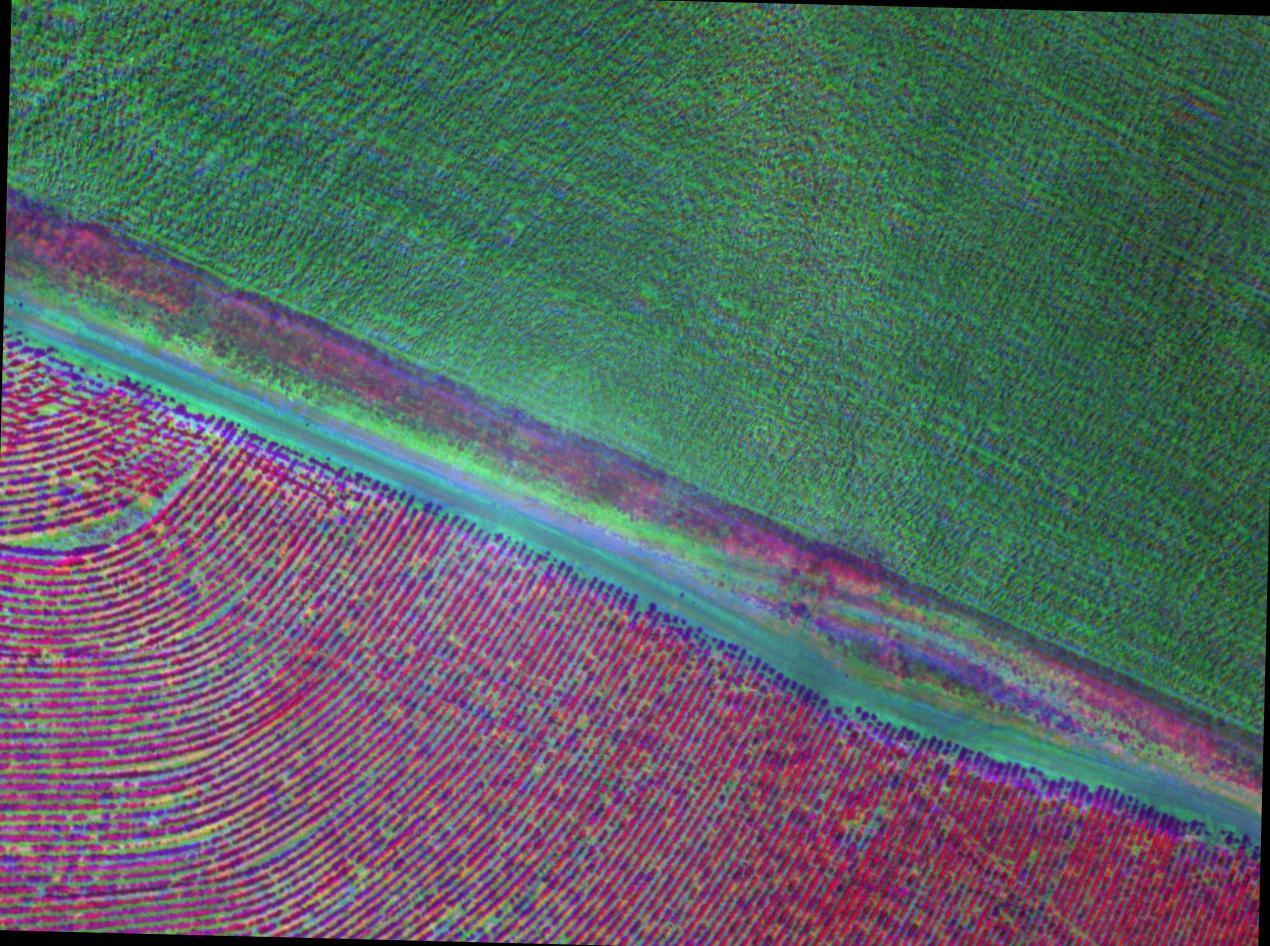dc: (16, 440, 212, 564), (288, 803, 425, 944), (61, 755, 218, 868), (241, 570, 343, 676)
